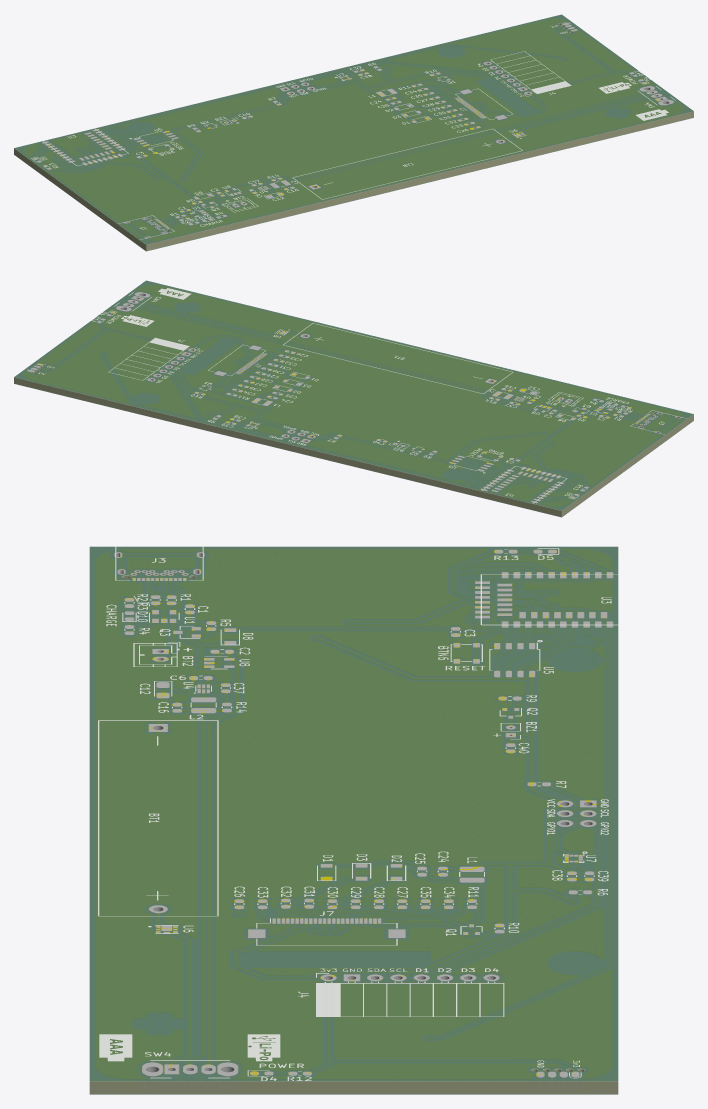
File: aramcon-hardware-badge-pcb-hardware-files.glb
3 views of the same model, one above another, from view 1: azimuth 30°, elevation 25°; view 2: azimuth 150°, elevation 25°; view 3: azimuth 270°, elevation 25° (orthographic). The views are drawn at different scales.
Visible parts, largest first — view 1: =>[0:1:1:7], =>[0:1:1:2], =>[0:1:1:9], =>[0:1:1:5]; view 2: =>[0:1:1:7], =>[0:1:1:2], =>[0:1:1:9], =>[0:1:1:5]; view 3: =>[0:1:1:7], =>[0:1:1:2], =>[0:1:1:9], =>[0:1:1:5].
Boxes of the visible parts, x1=… form: =>[0:1:1:7]: x1=14, y1=14, x2=693, y2=251; =>[0:1:1:2]: x1=24, y1=19, x2=683, y2=240; =>[0:1:1:9]: x1=14, y1=15, x2=693, y2=251; =>[0:1:1:5]: x1=31, y1=22, x2=675, y2=239; =>[0:1:1:7]: x1=14, y1=280, x2=693, y2=517; =>[0:1:1:2]: x1=24, y1=285, x2=683, y2=506; =>[0:1:1:9]: x1=14, y1=281, x2=693, y2=517; =>[0:1:1:5]: x1=27, y1=288, x2=686, y2=503; =>[0:1:1:7]: x1=89, y1=546, x2=618, y2=1094; =>[0:1:1:2]: x1=96, y1=549, x2=612, y2=1078; =>[0:1:1:9]: x1=89, y1=547, x2=618, y2=1094; =>[0:1:1:5]: x1=98, y1=546, x2=617, y2=1080.
Bounding box in the file's own units: 0.138 × 0.00166 × 0.0577.
4 materials, 4 textured.
